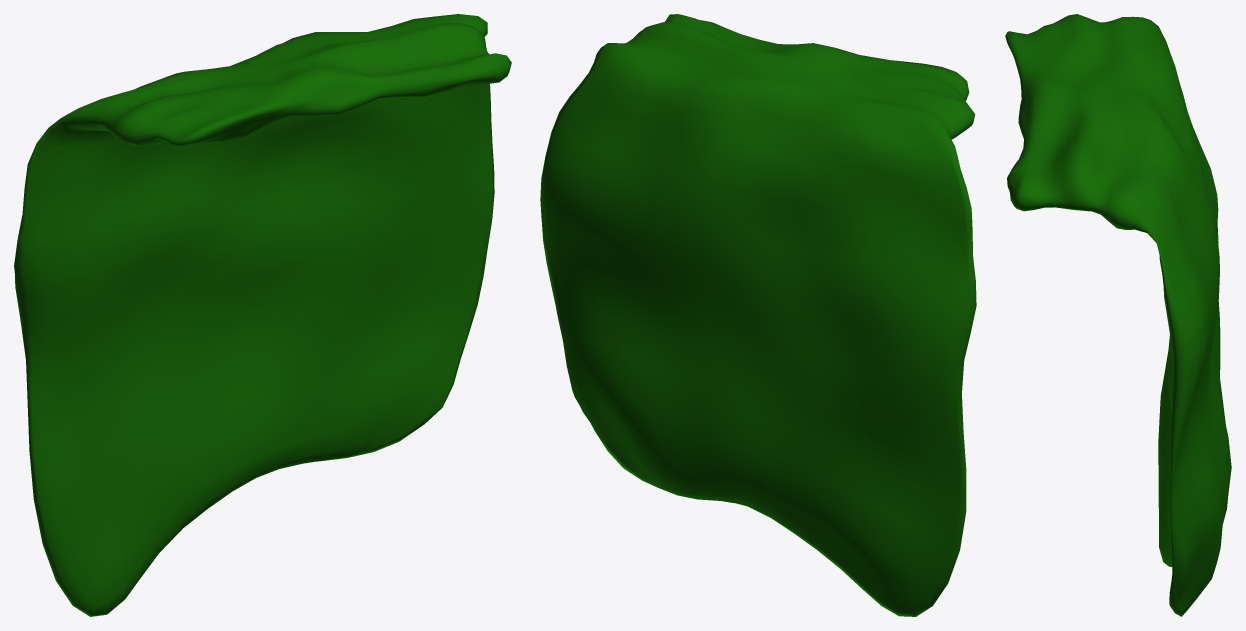
The model's file is wall moss.fbx.
3 views of the same model, side by side, from view 1: azimuth 30°, elevation 25°; view 2: azimuth 150°, elevation 25°; view 3: azimuth 270°, elevation 25° (orthographic). The views are drawn at different scales.
Parts seen in each view (by area): view 1: Plane; view 2: Plane; view 3: Plane.
Part boxes in pixels (bbox=[...]): Plane: bbox=[14, 14, 511, 616]; Plane: bbox=[540, 14, 976, 616]; Plane: bbox=[1005, 14, 1231, 616].
Bounding box in the file's own units: 278 × 305 × 113.
